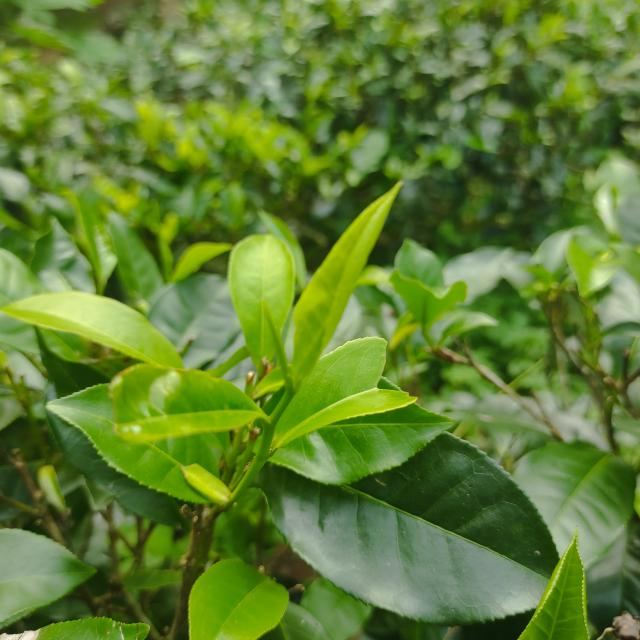unopened_leaf: (256, 296, 303, 400)
